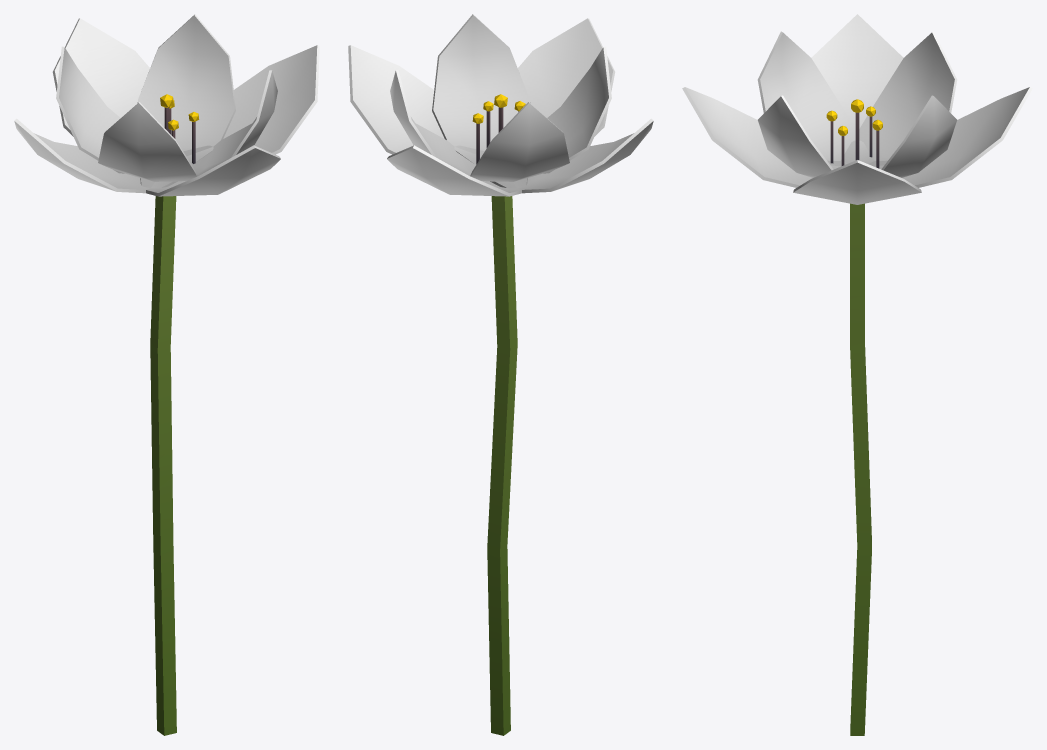
The model's file is PondPlant_04.fbx.
3 views of the same model, side by side, from view 1: azimuth 30°, elevation 25°; view 2: azimuth 150°, elevation 25°; view 3: azimuth 270°, elevation 25° (orthographic).
Parts seen in each view (by area): view 1: PondPlant_04_LOD0; view 2: PondPlant_04_LOD0; view 3: PondPlant_04_LOD0.
Part boxes in pixels (box(x1,y1,x2,y2)): PondPlant_04_LOD0: box(14, 14, 319, 735); PondPlant_04_LOD0: box(348, 14, 653, 735); PondPlant_04_LOD0: box(682, 14, 1032, 735).
Size of what is drawn, in the model's own units: 0.2557 by 0.5383 by 0.2557.
